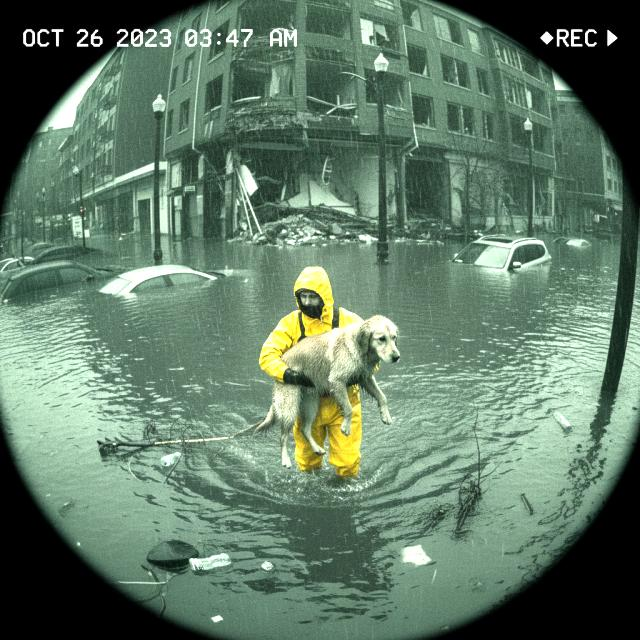civilian: (262, 261, 376, 491)
dog: (265, 303, 410, 472)
